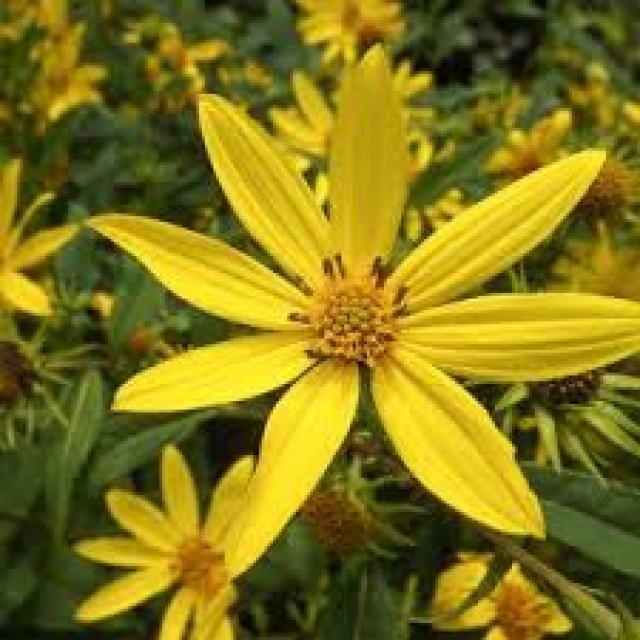sunflower: (87, 44, 640, 580), (68, 439, 270, 640), (256, 58, 438, 214), (0, 152, 87, 363), (417, 545, 586, 640), (479, 109, 608, 221), (22, 25, 120, 125), (295, 0, 409, 65), (139, 35, 226, 107)
